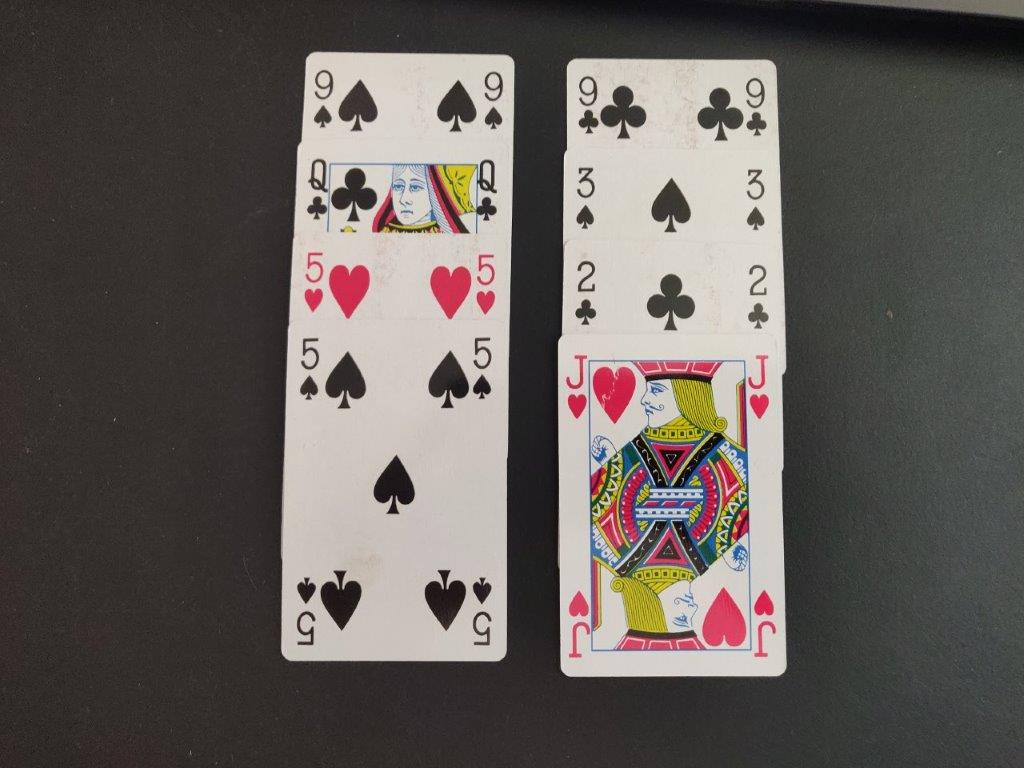2C: (570, 256, 605, 331), (743, 256, 772, 335)
3S: (570, 163, 601, 234), (740, 166, 769, 233)
5H: (298, 247, 330, 321), (470, 250, 503, 320)
5S: (295, 333, 324, 410), (468, 332, 496, 405)
9C: (740, 71, 771, 147), (572, 71, 603, 140)
9S: (303, 60, 335, 132), (480, 67, 507, 133)
JH: (560, 349, 594, 430), (741, 349, 775, 424)
QC: (470, 153, 502, 229), (300, 151, 330, 228)
